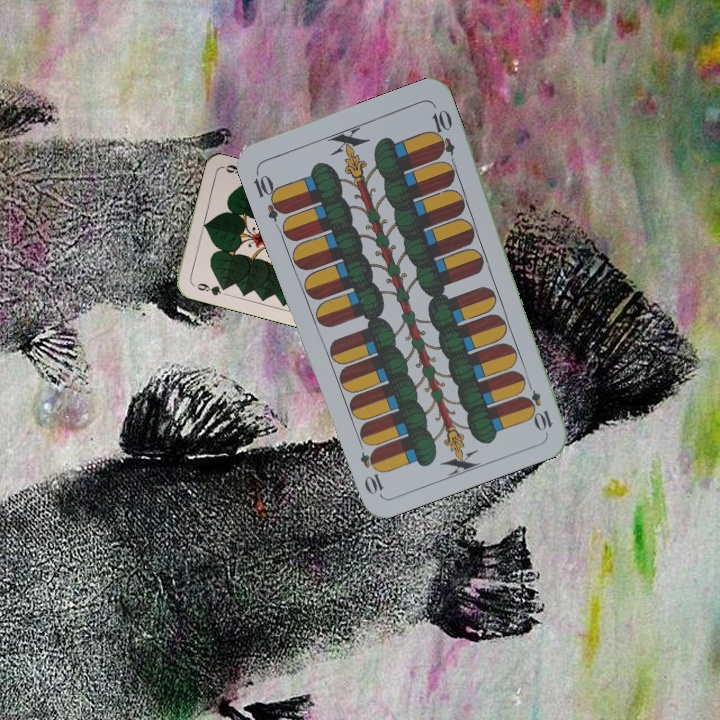E10: (249, 166, 289, 224), (520, 376, 555, 433)
G9: (188, 279, 230, 298)
